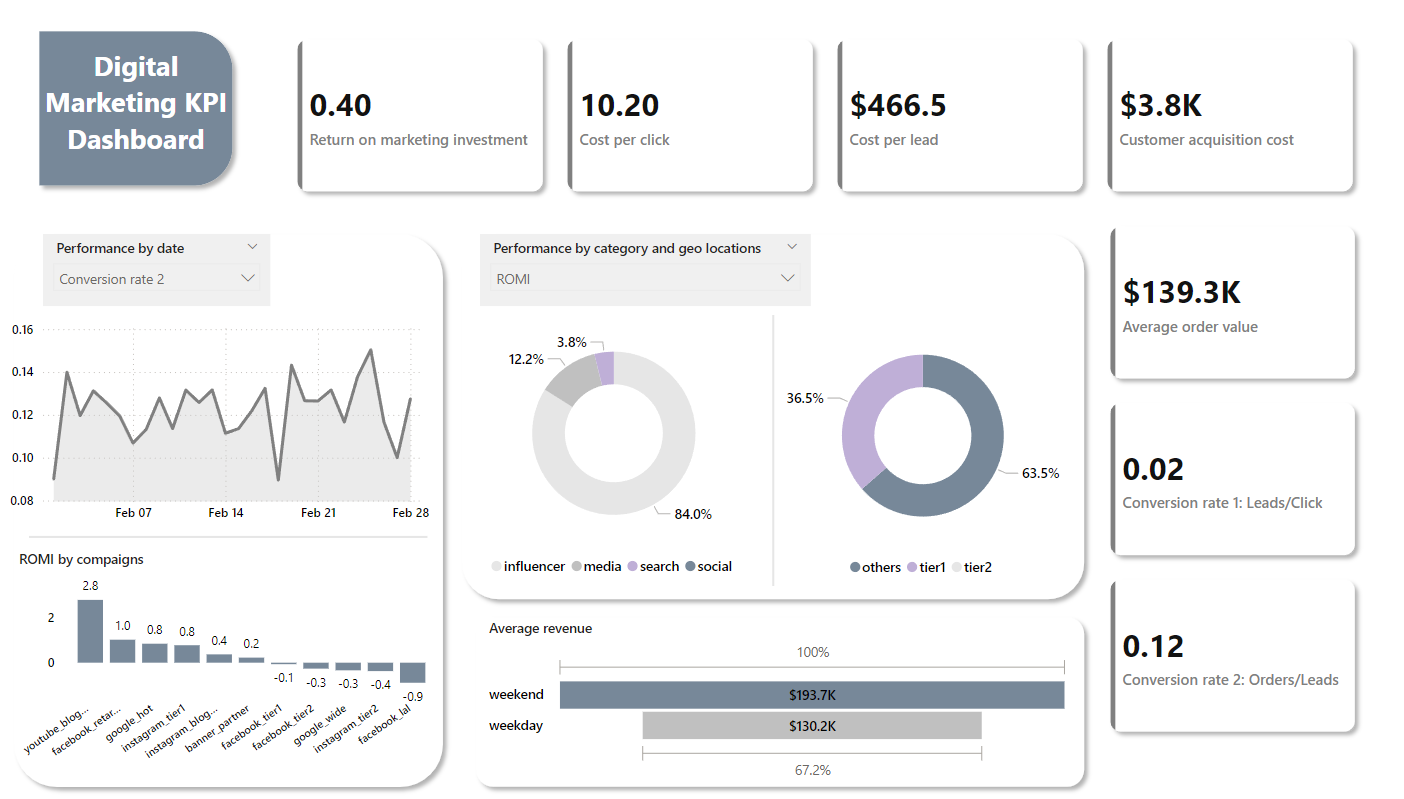

What the dashboard file says about the page in this screenshot:
{"tool":"powerbi","page":{"name":"Page 1","canvas":[1400,800],"ordinal":0},"visuals":[{"type":"shape","box":[30.9,26.6,208.5,170.2],"z":0},{"type":"textbox","box":[35.1,45.7,198.9,131.9],"z":1},{"type":"cardVisual","fields":{"Data":["Marketing.ROMI","Marketing.CPC","Marketing.CPL","Marketing.CAC"]},"box":[276.6,26.6,1076.6,184],"z":2},{"type":"cardVisual","fields":{"Data":["Marketing.AOV","Marketing.CR1","Marketing.CR2"]},"box":[1077.7,210.6,275.5,533],"z":3},{"type":"shape","box":[6.4,226.6,440.4,562.8],"z":11},{"type":"slicer","fields":{"Values":["metrics_date.metrics_date"]},"box":[43.6,235.1,224.5,71.3],"z":12},{"type":"lineChart","fields":{"Y":["Marketing.CR2"],"Category":["Marketing.c_date"]},"box":[6.4,314.9,423.4,212.8],"z":13},{"type":"clusteredColumnChart","title":"ROMI by compaigns","fields":{"Category":["Marketing.campaign_name"],"Y":["Marketing.ROMI"]},"box":[14.9,546.8,423.4,216],"z":14},{"type":"shape","box":[446.8,226.6,630.9,377.7],"z":15},{"type":"slicer","fields":{"Values":["metrics_type.metrics_type"]},"box":[473.4,235.1,325.5,71.3],"z":16},{"type":"donutChart","fields":{"Category":["Marketing.category"],"Y":["Marketing.ROMI"]},"box":[460.6,311.7,289.4,270.2],"z":17},{"type":"donutChart","fields":{"Category":["Marketing.geo_locations"],"Y":["Marketing.ROMI"]},"box":[766,314.9,289.4,267],"z":18},{"type":"shape","box":[29.8,527.7,392.6,11.7],"z":19},{"type":"shape","box":[460.6,604.3,617,185.1],"z":20},{"type":"funnel","title":"Average revenue","fields":{"Category":["Marketing.c_date_week"],"Y":["Marketing.AOV"]},"box":[477.7,614.9,581.9,162.8],"z":21},{"type":"shape","box":[759.6,314.9,6.4,267],"z":22}]}

Visuals, with their boxes in screenshot pixels (x1, y1, x2, y2), scaled from the page's 1400x800 canvas onto the 1404x799 screenshot:
shape: <box>31,27,240,197</box>
textbox: <box>35,46,235,177</box>
cardVisual - Marketing.ROMI x Marketing.CPC: <box>277,27,1357,210</box>
cardVisual - Marketing.AOV x Marketing.CR1: <box>1081,210,1357,743</box>
shape: <box>6,226,448,788</box>
slicer - metrics_date.metrics_date: <box>44,235,269,306</box>
lineChart - Marketing.CR2 x Marketing.c_date: <box>6,315,431,527</box>
"ROMI by compaigns" clusteredColumnChart: <box>15,546,440,762</box>
shape: <box>448,226,1081,604</box>
slicer - metrics_type.metrics_type: <box>475,235,801,306</box>
donutChart - Marketing.category x Marketing.ROMI: <box>462,311,752,581</box>
donutChart - Marketing.geo_locations x Marketing.ROMI: <box>768,315,1058,581</box>
shape: <box>30,527,424,539</box>
shape: <box>462,604,1081,788</box>
"Average revenue" funnel: <box>479,614,1063,777</box>
shape: <box>762,315,768,581</box>
